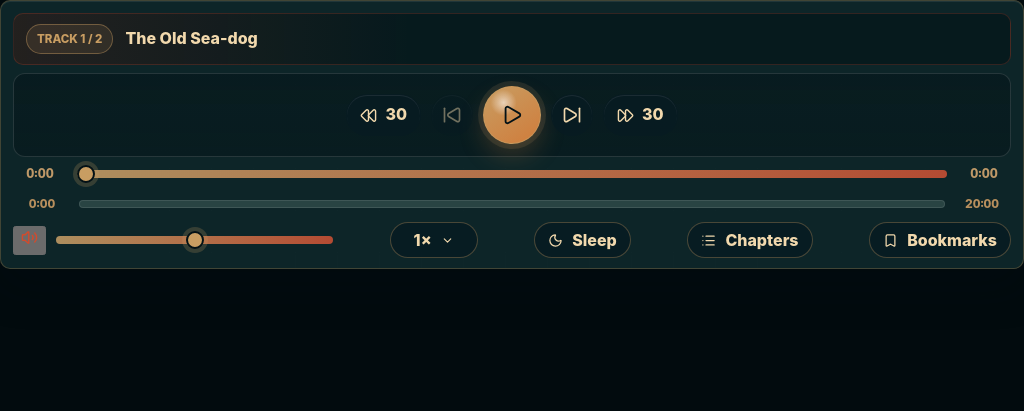
it: AudioPlayer toggles › expands the bookmark list the same way
Step 1. Click the button "Bookmarks" → (940, 240), box left=869, top=222, right=1011, bottom=258
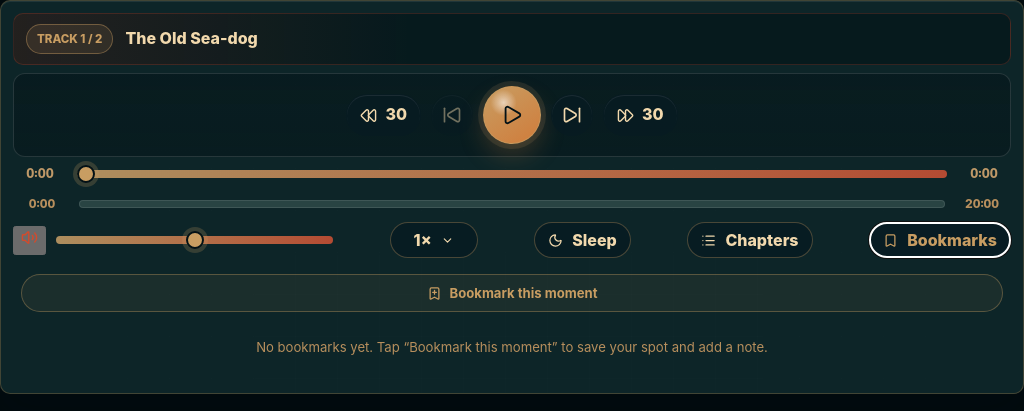
Expected: the button "Bookmarks" is expanded, left=869, top=222, right=1011, bottom=258
